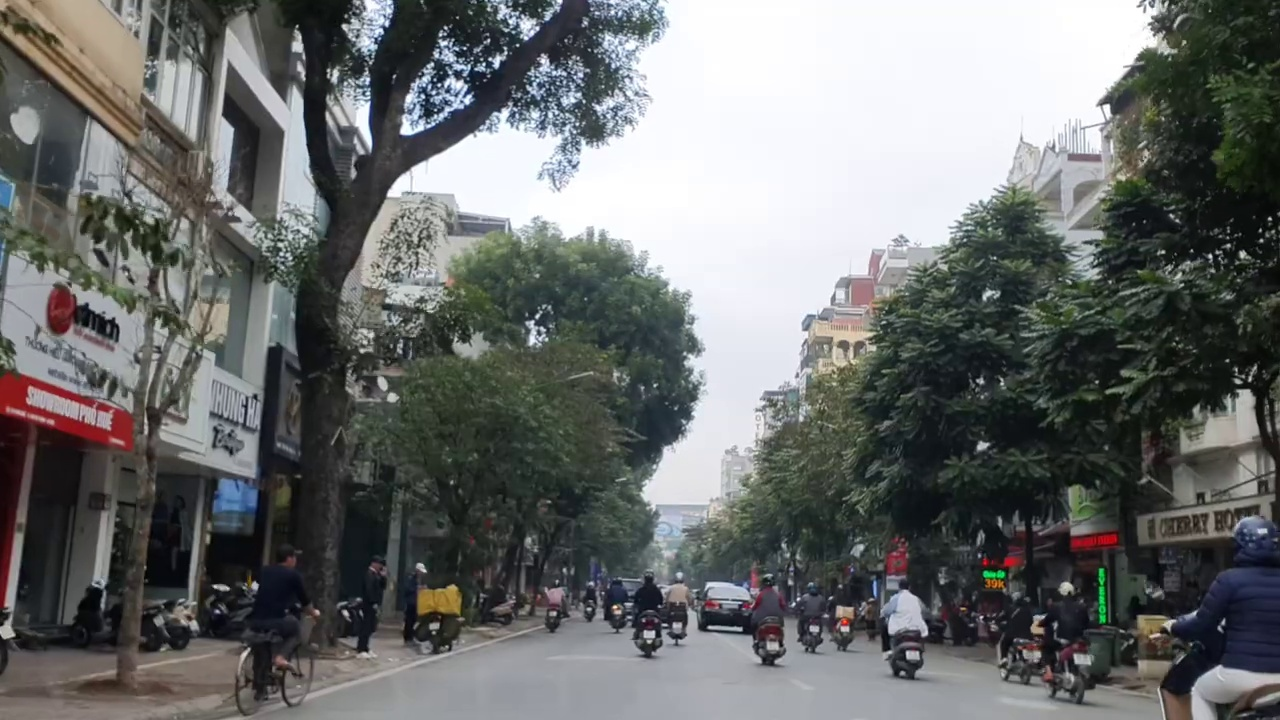person: (1072, 651, 1095, 664), (640, 626, 659, 640), (765, 635, 781, 651), (904, 646, 924, 658), (718, 598, 741, 607), (425, 619, 441, 631), (1022, 648, 1038, 660), (808, 622, 820, 635), (670, 619, 685, 629), (836, 624, 848, 633), (546, 606, 555, 617), (612, 606, 621, 617), (584, 601, 592, 613)
